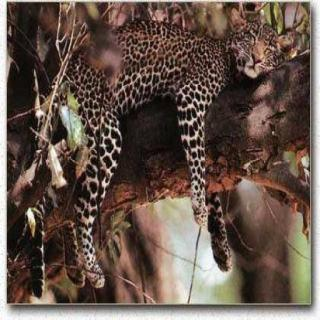Leopard: (50, 32, 308, 244)
